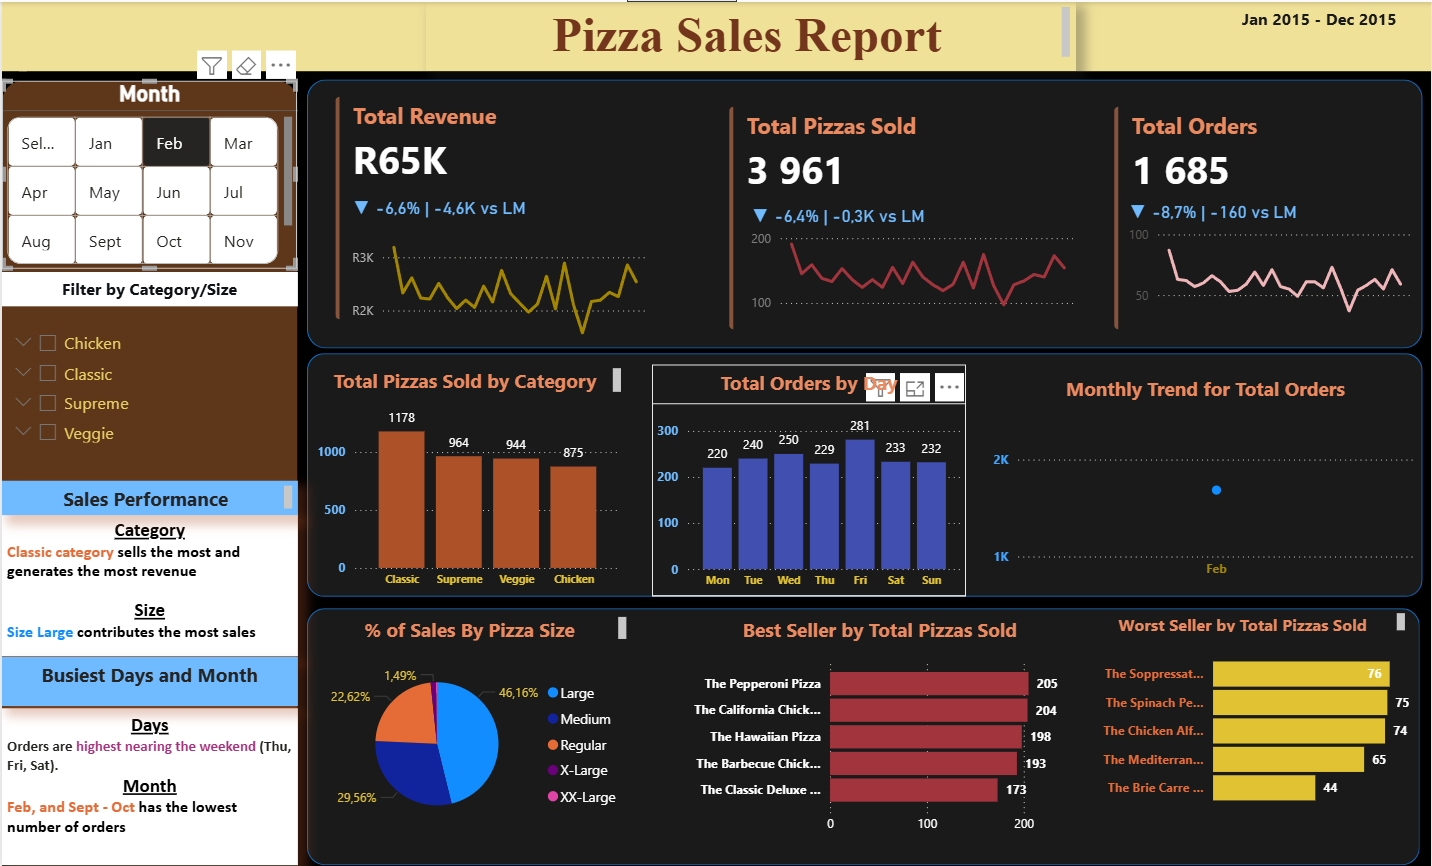

The dashboard page shown, as its layout file describes it:
{"tool":"powerbi","page":{"name":"Page 1","canvas":[1399,850],"ordinal":0},"visuals":[{"type":"shape","box":[0,0,1400.6,67.7],"z":0},{"type":"clusteredColumnChart","title":"Total pizzas sold by category","fields":{"Category":["pizza_sales.pizza_category"],"Y":["pizza_sales.Total Pizzas Sold Numeric"]},"box":[304.1,385.5,307.5,196.7],"z":0,"group":"g5"},{"type":"clusteredColumnChart","title":"Total pizzas sold by category","fields":{"Category":["pizza_sales.order_day"],"Y":["pizza_sales.total orders"]},"box":[635.8,391.9,307.5,190.5],"z":0,"group":"g1"},{"type":"textbox","box":[0,501.2,289.2,139.8],"z":0,"group":"g10"},{"type":"textbox","box":[0,690.7,289.2,153.5],"z":0,"group":"g16"},{"type":"textbox","box":[1209,0,190,38.3],"z":1000,"group":"g2"},{"type":"shape","box":[0,76.9,289.2,767.4],"z":1000},{"type":"textbox","box":[303.6,353.1,307.5,33.9],"z":1000,"group":"g5"},{"type":"textbox","box":[635.8,354.4,307.5,37.5],"z":1000,"group":"g1"},{"type":"textbox","box":[961.5,360.9,432.4,34.4],"z":1000,"group":"g7"},{"type":"textbox","box":[0,469,289.2,33.4],"z":1000,"group":"g10"},{"type":"textbox","box":[1059.2,592.8,318.6,28],"z":1000,"group":"g13"},{"type":"textbox","box":[307.5,596.7,308.8,33.1],"z":1000,"group":"g8"},{"type":"textbox","box":[660.5,596.7,397.2,34.4],"z":1000,"group":"g9"},{"type":"textbox","box":[0,641,289.2,48.3],"z":1000,"group":"g16"},{"type":"shape","box":[298.4,592.8,1089.2,251.4],"z":2000},{"type":"shape","box":[298.4,344,1091.8,238.4],"z":3000},{"type":"textbox","box":[414.3,0,635.8,67.7],"z":4000},{"type":"shape","box":[298.4,75.6,1091.8,263.2],"z":4000,"group":"g3"},{"type":"group","id":"g1","title":"Group 2","box":[635.8,354.4,307.5,228],"z":5000},{"type":"group","id":"g2","title":"Group 2","box":[1209,0,190.2,37.8],"z":6000},{"type":"group","id":"g3","title":"Group 1","box":[298.4,75.6,1091.8,263.2],"z":6000,"group":"g18"},{"type":"cardVisual","fields":{"Data":["pizza_sales.Total Sales"]},"box":[308.8,75.6,307.5,252.8],"z":6000,"group":"g3"},{"type":"cardVisual","fields":{"Data":["pizza_sales.Total Pizzas Sold"]},"box":[694.9,85.7,363.5,252.8],"z":6000,"group":"g11"},{"type":"cardVisual","fields":{"Data":["pizza_sales.total orders formatted"]},"box":[1071.4,85.7,306.2,252.8],"z":6000,"group":"g4"},{"type":"group","id":"g4","title":"Group 1","box":[1071.4,85.7,306.2,252.8],"z":7000,"group":"g18"},{"type":"group","id":"g5","title":"Group 2","box":[303.6,353.1,307.5,229.3],"z":7000},{"type":"lineChart","fields":{"Category":["Date Table.Date.Variation.Date Hierarchy.Year","Date Table.Date.Variation.Date Hierarchy.Quarter","Date Table.Date.Variation.Date Hierarchy.Month","Date Table.Date.Variation.Date Hierarchy.Day"],"Y":["pizza_sales.Total Sales"]},"box":[337.4,190.3,298.4,143.3],"z":8000,"group":"g3"},{"type":"lineChart","fields":{"Category":["Date Table.Date.Variation.Date Hierarchy.Year","Date Table.Date.Variation.Date Hierarchy.Quarter","Date Table.Date.Variation.Date Hierarchy.Month","Date Table.Date.Variation.Date Hierarchy.Day"],"Y":["pizza_sales.Total Pizzas Sold Numeric"]},"box":[728.2,197.8,327,134.2],"z":8000,"group":"g11"},{"type":"group","id":"g6","title":"Group 4","box":[307.5,596.7,308.8,218.9],"z":8000},{"type":"lineChart","fields":{"Category":["Date Table.Date.Variation.Date Hierarchy.Year","Date Table.Date.Variation.Date Hierarchy.Quarter","Date Table.Date.Variation.Date Hierarchy.Month","Date Table.Date.Variation.Date Hierarchy.Day"],"Y":["pizza_sales.total orders"]},"box":[1097,198,291.8,118.6],"z":9000},{"type":"group","id":"g7","title":"Group 2","box":[961.5,360.9,432.4,34.4],"z":9000,"group":"g14"},{"type":"group","id":"g8","title":"Group 2","box":[307.5,596.7,308.8,33.1],"z":9000,"group":"g6"},{"type":"group","id":"g9","title":"Group 2","box":[660.5,596.7,397.2,34.4],"z":9000,"group":"g15"},{"type":"group","id":"g10","title":"Group 5","box":[0,469,289.2,172],"z":10000},{"type":"group","id":"g11","title":"Group 3","box":[694.9,85.7,363.5,252.8],"z":11000,"group":"g18"},{"type":"group","id":"g12","title":"Group 6","box":[1059.2,592.8,324.4,204.5],"z":11000},{"type":"group","id":"g13","title":"Group 2","box":[1059.2,592.8,319.2,27.8],"z":11000,"group":"g12"},{"type":"pieChart","fields":{"Category":["pizza_sales.pizza_size"],"Y":["pizza_sales.Total Sales"]},"box":[313.1,635.5,301.4,180.1],"z":11000,"group":"g6"},{"type":"stackedAreaChart","fields":{"Y":["pizza_sales.total orders"],"Category":["Date Table.Month"]},"box":[965.4,386.9,422.1,186.3],"z":12000},{"type":"group","id":"g14","title":"Group 4","box":[961.5,360.9,432.5,35.2],"z":13000},{"type":"clusteredBarChart","fields":{"Category":["pizza_sales.pizza_name"],"Y":["pizza_sales.Total Pizzas Sold Numeric"]},"box":[660.5,631.9,394.8,190.2],"z":13000,"group":"g17"},{"type":"advancedSlicerVisual","fields":{"Values":["Date Table.Month"]},"box":[0,76.9,289.2,185],"z":14000},{"type":"group","id":"g15","title":"Group 4","box":[660.5,596.7,397.4,35.2],"z":14000,"group":"g17"},{"type":"group","id":"g16","title":"Group 5","box":[0,641,289.2,203.2],"z":15000},{"type":"group","id":"g17","title":"Group 7","box":[660.5,596.7,397.4,225.4],"z":16000},{"type":"group","id":"g18","title":"Group 8","box":[298.4,75.6,1091.8,263.2],"z":17000},{"type":"lineChart","fields":{"Y":["pizza_sales.total orders"],"Category":["Date Table.Date.Variation.Date Hierarchy.Year","Date Table.Date.Variation.Date Hierarchy.Quarter","Date Table.Date.Variation.Date Hierarchy.Month","Date Table.Date.Variation.Date Hierarchy.Day"]},"box":[1097,194.1,286.6,134.2],"z":17001},{"type":"slicer","fields":{"Values":["pizza_sales.pizza_category","pizza_sales.pizza_size"]},"box":[0,314,289.2,153.7],"z":17002},{"type":"textbox","box":[0,264.5,289.2,33.9],"z":17003},{"type":"clusteredBarChart","fields":{"Category":["pizza_sales.pizza_name"],"Y":["pizza_sales.Total Pizzas Sold Numeric"]},"box":[1059.2,620.6,324.4,176.7],"z":18000,"group":"g12"}]}

Visuals, with their boxes on the page's 1399x850 design canvas (x1, y1, x2, y2). These are canvas units, not pixel positions in the 1432x866 screenshot, which may show the page scaled, cropped or inside an application window:
shape: locate(0, 0, 1401, 68)
"Total pizzas sold by category" clusteredColumnChart: locate(304, 386, 612, 582)
"Total pizzas sold by category" clusteredColumnChart: locate(636, 392, 943, 582)
textbox: locate(0, 501, 289, 641)
textbox: locate(0, 691, 289, 844)
textbox: locate(1209, 0, 1399, 38)
shape: locate(0, 77, 289, 844)
textbox: locate(304, 353, 611, 387)
textbox: locate(636, 354, 943, 392)
textbox: locate(962, 361, 1394, 395)
textbox: locate(0, 469, 289, 502)
textbox: locate(1059, 593, 1378, 621)
textbox: locate(308, 597, 616, 630)
textbox: locate(660, 597, 1058, 631)
textbox: locate(0, 641, 289, 689)
shape: locate(298, 593, 1388, 844)
shape: locate(298, 344, 1390, 582)
textbox: locate(414, 0, 1050, 68)
shape: locate(298, 76, 1390, 339)
"Group 2" group: locate(636, 354, 943, 582)
"Group 2" group: locate(1209, 0, 1399, 38)
"Group 1" group: locate(298, 76, 1390, 339)
cardVisual - pizza_sales.Total Sales: locate(309, 76, 616, 328)
cardVisual - pizza_sales.Total Pizzas Sold: locate(695, 86, 1058, 338)
cardVisual - pizza_sales.total orders formatted: locate(1071, 86, 1378, 338)
"Group 1" group: locate(1071, 86, 1378, 338)
"Group 2" group: locate(304, 353, 611, 582)
lineChart - Date Table.Date.Variation.Date Hierarchy.Year x Date Table.Date.Variation.Date Hierarchy.Quarter: locate(337, 190, 636, 334)
lineChart - Date Table.Date.Variation.Date Hierarchy.Year x Date Table.Date.Variation.Date Hierarchy.Quarter: locate(728, 198, 1055, 332)
"Group 4" group: locate(308, 597, 616, 816)
lineChart - Date Table.Date.Variation.Date Hierarchy.Year x Date Table.Date.Variation.Date Hierarchy.Quarter: locate(1097, 198, 1389, 317)
"Group 2" group: locate(962, 361, 1394, 395)
"Group 2" group: locate(308, 597, 616, 630)
"Group 2" group: locate(660, 597, 1058, 631)
"Group 5" group: locate(0, 469, 289, 641)
"Group 3" group: locate(695, 86, 1058, 338)
"Group 6" group: locate(1059, 593, 1384, 797)
"Group 2" group: locate(1059, 593, 1378, 621)
pieChart - pizza_sales.pizza_size x pizza_sales.Total Sales: locate(313, 636, 614, 816)
stackedAreaChart - pizza_sales.total orders x Date Table.Month: locate(965, 387, 1388, 573)
"Group 4" group: locate(962, 361, 1394, 396)
clusteredBarChart - pizza_sales.pizza_name x pizza_sales.Total Pizzas Sold Numeric: locate(660, 632, 1055, 822)
advancedSlicerVisual - Date Table.Month: locate(0, 77, 289, 262)
"Group 4" group: locate(660, 597, 1058, 632)
"Group 5" group: locate(0, 641, 289, 844)
"Group 7" group: locate(660, 597, 1058, 822)
"Group 8" group: locate(298, 76, 1390, 339)
lineChart - pizza_sales.total orders x Date Table.Date.Variation.Date Hierarchy.Year: locate(1097, 194, 1384, 328)
slicer - pizza_sales.pizza_category x pizza_sales.pizza_size: locate(0, 314, 289, 468)
textbox: locate(0, 264, 289, 298)
clusteredBarChart - pizza_sales.pizza_name x pizza_sales.Total Pizzas Sold Numeric: locate(1059, 621, 1384, 797)
